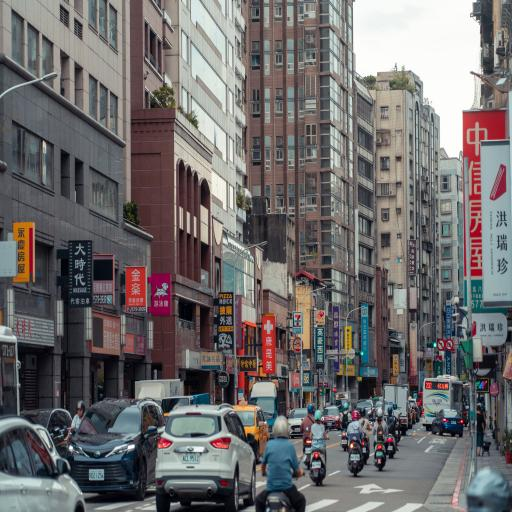bike: (348, 438, 364, 476), (310, 449, 326, 486), (266, 492, 292, 511), (375, 442, 386, 470), (385, 435, 395, 458), (304, 439, 311, 469), (362, 437, 369, 464), (341, 429, 349, 452), (395, 425, 401, 444)
car: (156, 404, 255, 511), (67, 399, 165, 500), (0, 417, 85, 511), (21, 409, 72, 457), (234, 404, 268, 464), (160, 394, 209, 417), (34, 425, 60, 465), (432, 410, 463, 437), (289, 409, 307, 436), (322, 407, 340, 429), (356, 400, 375, 420), (409, 399, 421, 423), (407, 401, 414, 429), (462, 406, 469, 427), (416, 392, 422, 409), (374, 401, 382, 410)
